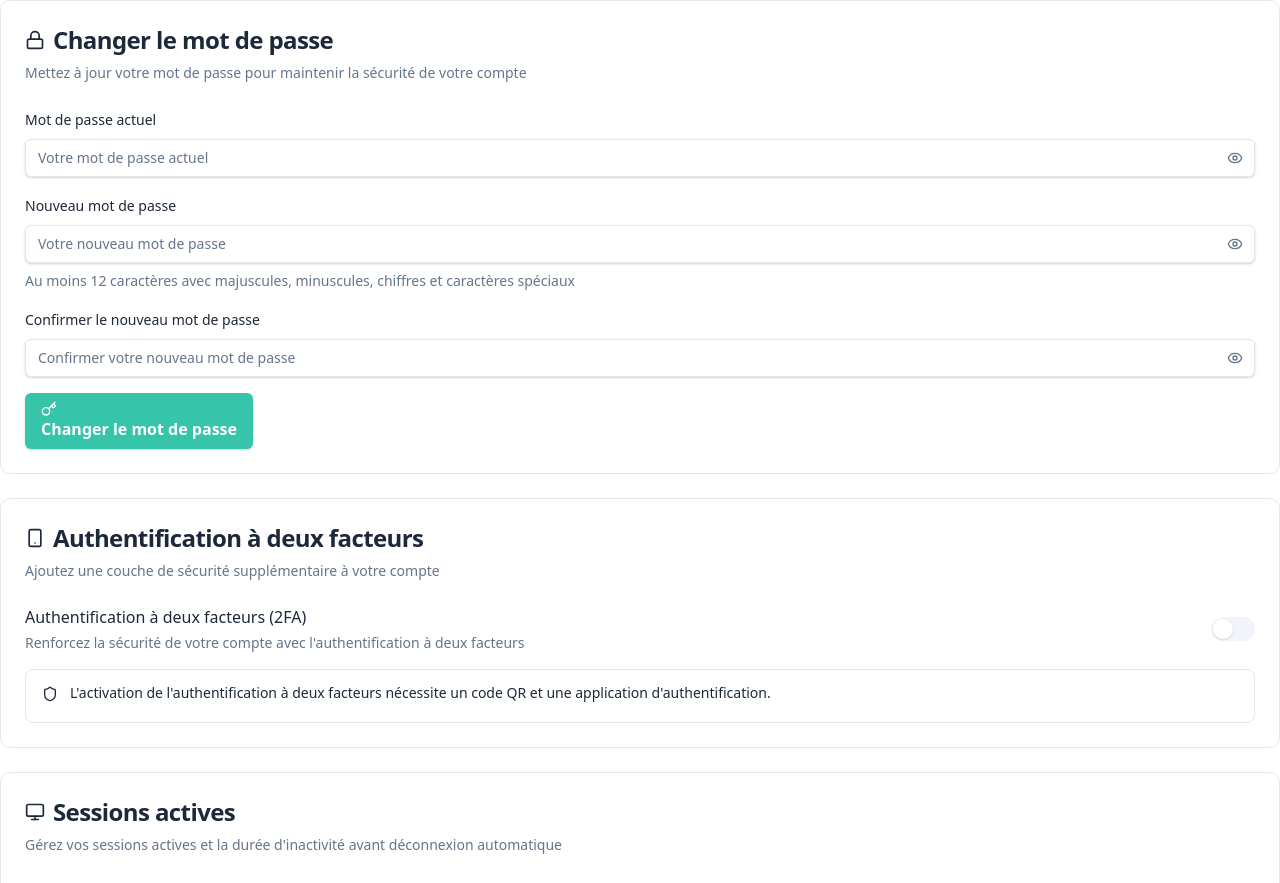
SecurityTab error handling › shows validation error for weak password
Type "123" into the password field with placeholder "Votre nouveau mot de passe".
click(640, 244); type("123")  # box [25,225,1255,263]
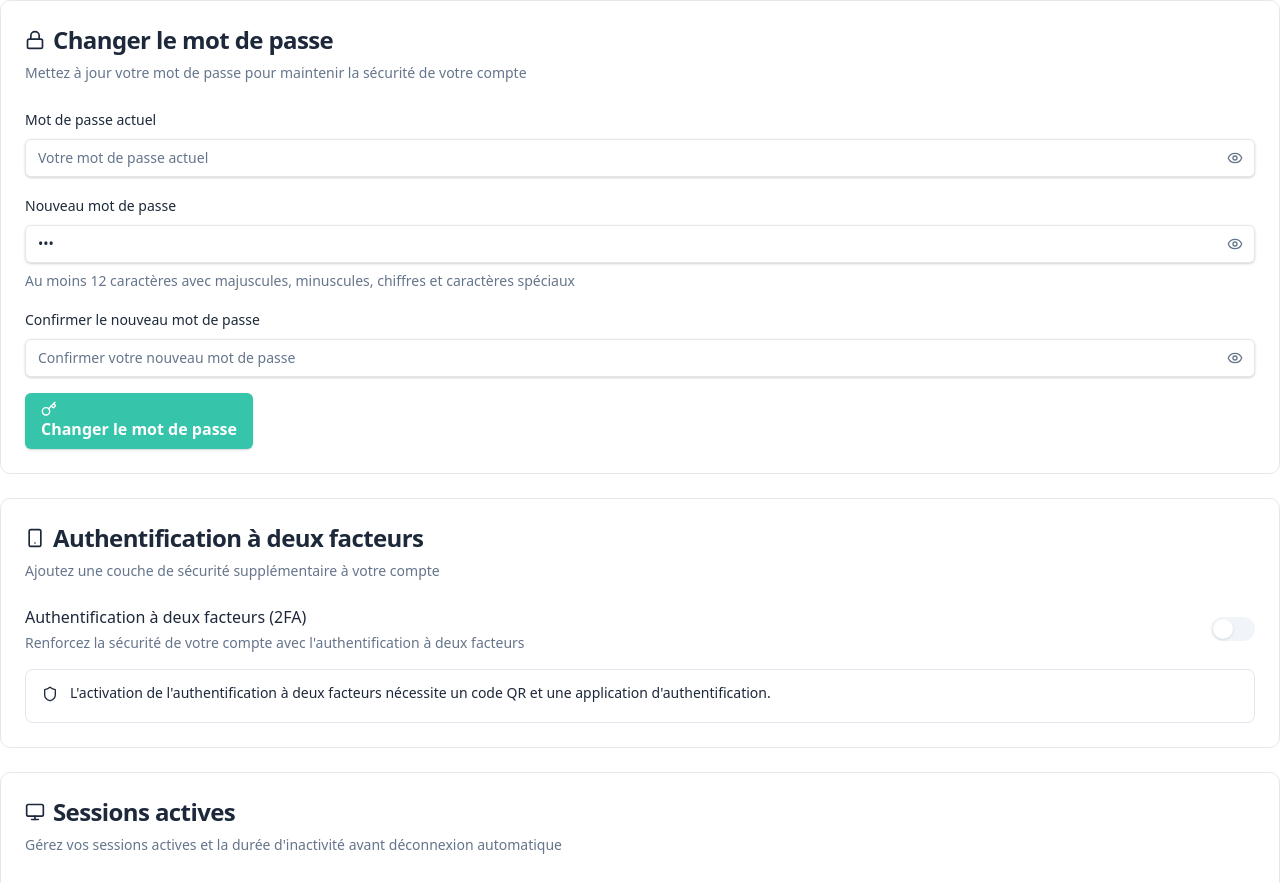
Type "123" into the password field with placeholder "Confirmer votre nouveau mot de passe".
click(640, 358); type("123")  # box [25,339,1255,377]
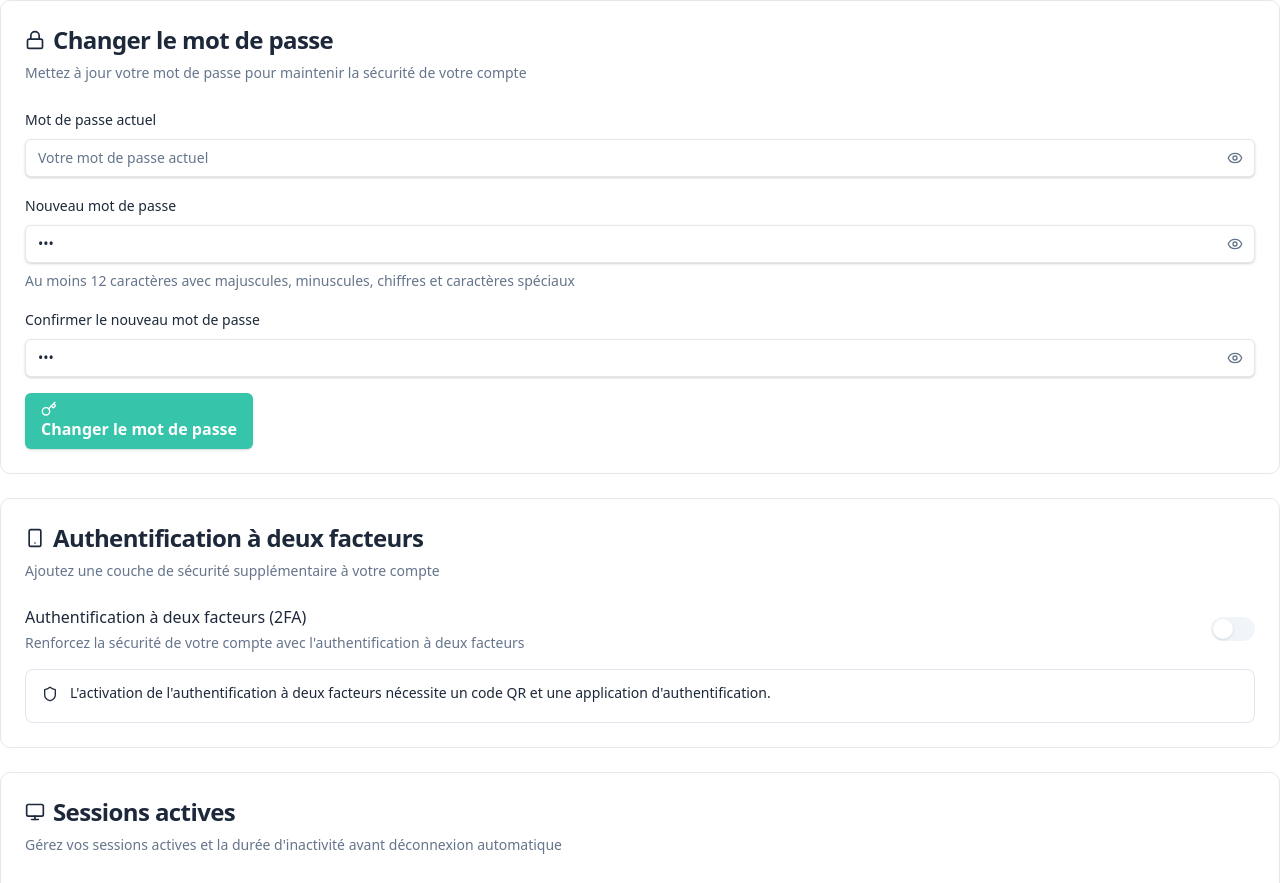
Click the button "Changer le mot de passe".
click(139, 421)  # box [25,393,253,449]
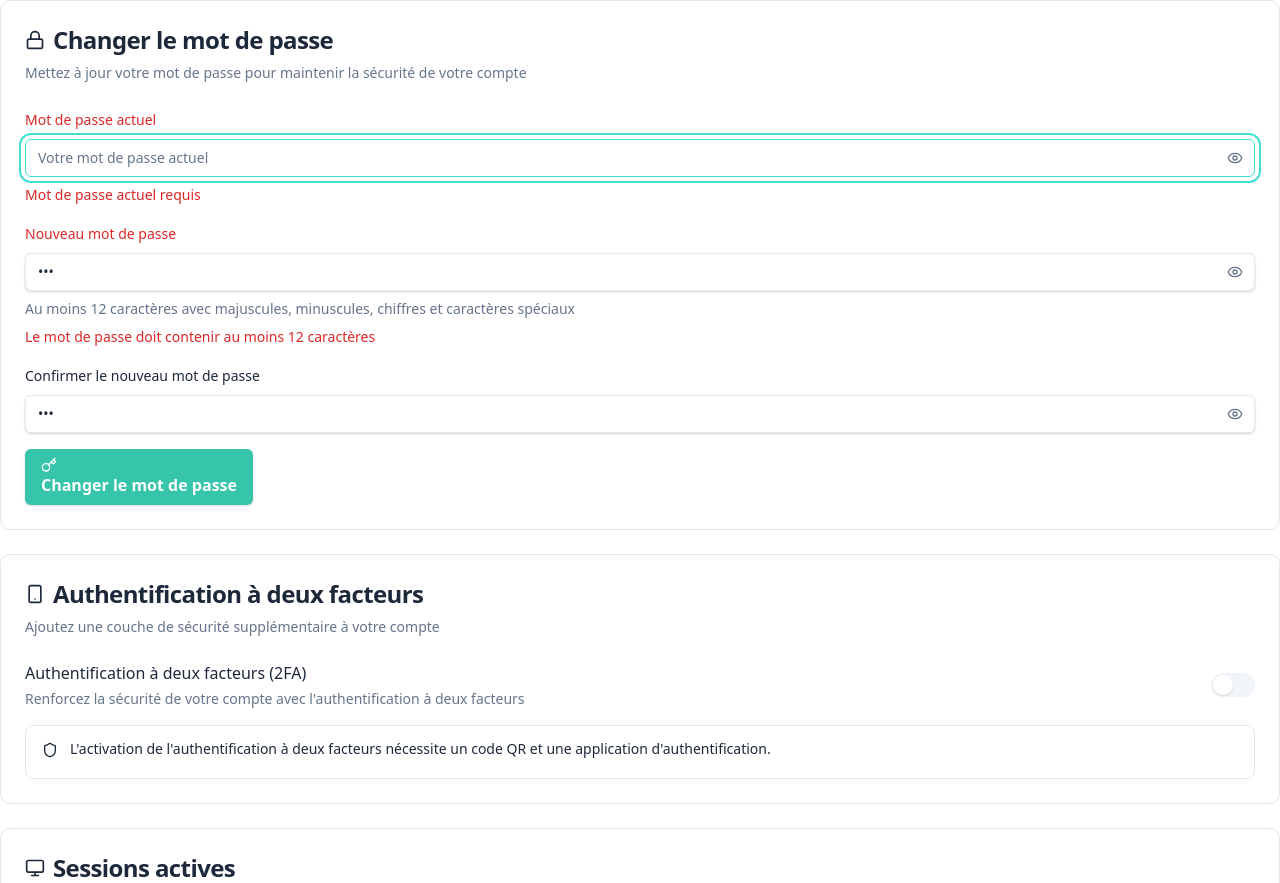
Now the text "Le mot de passe doit contenir au moins 12 caractères" is shown, box [25,327,375,346]
